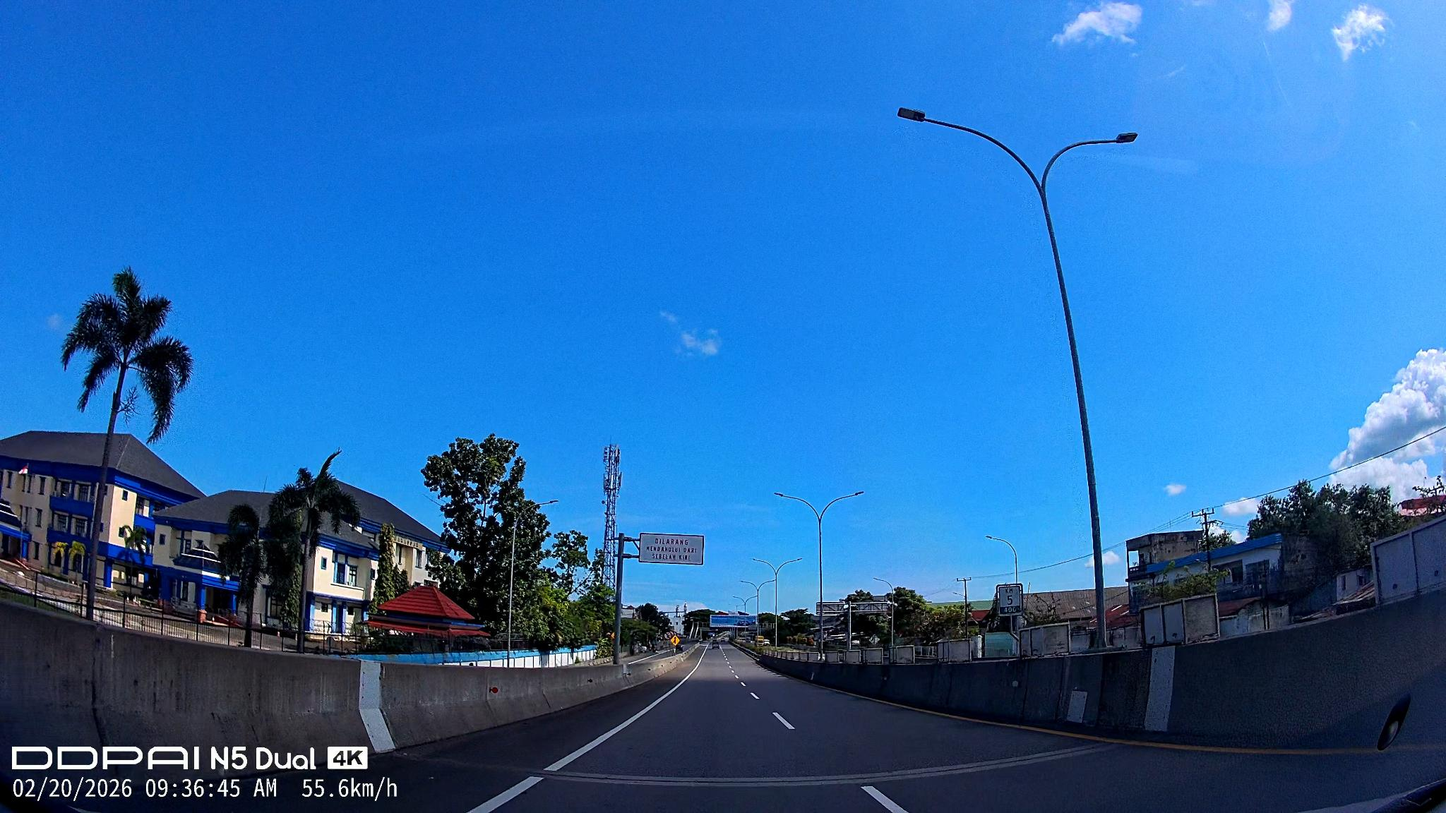rambu_teks: (638, 532, 705, 566)
